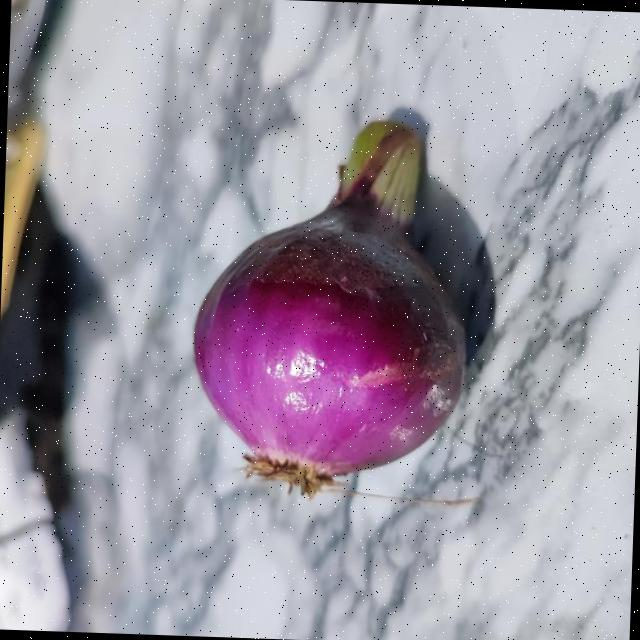Onion: (193, 118, 466, 495)
